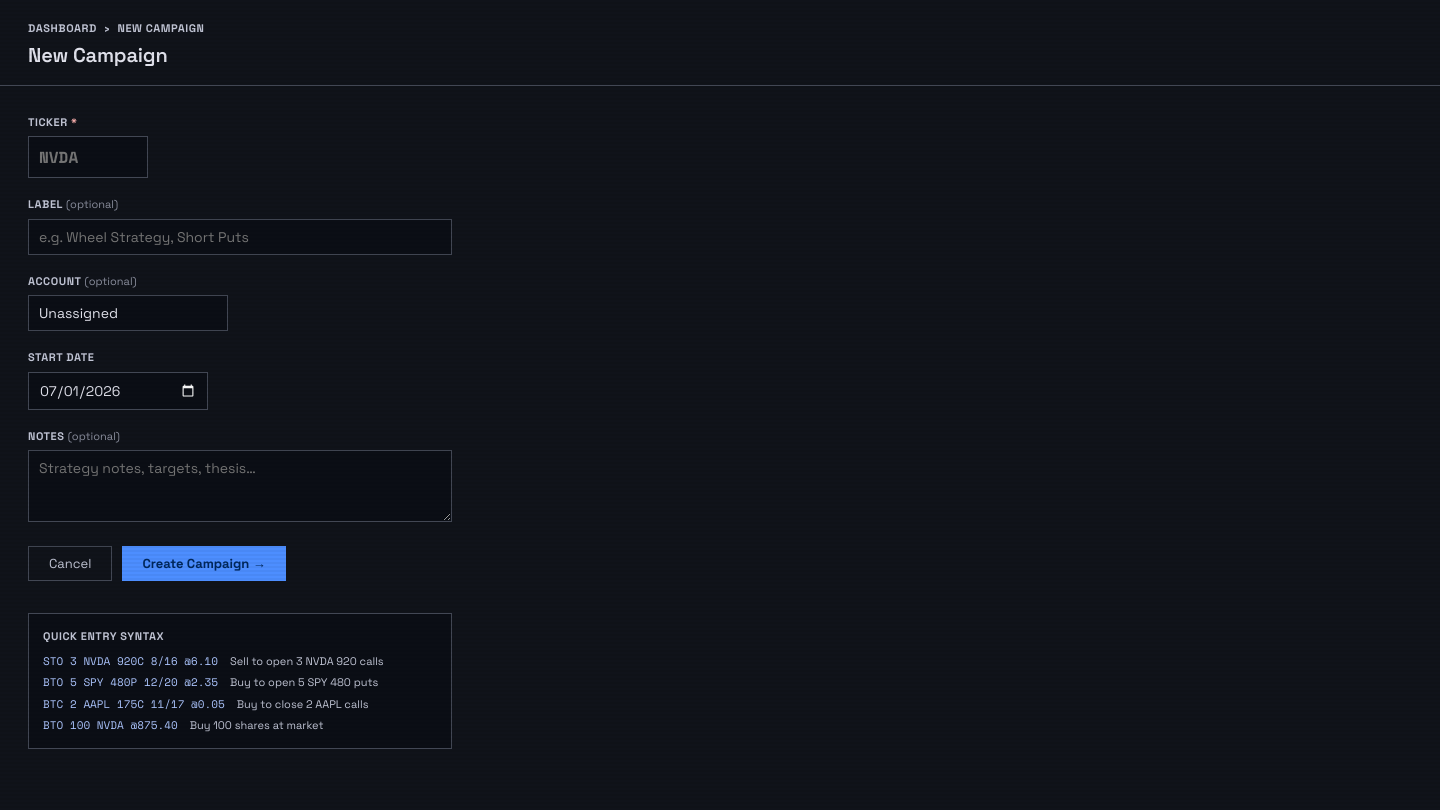
Test: ticker field › strips non-letter characters from input
This screenshot has width=1440, height=810.
Step 1. Type "SP1Y" into the field with class "ticker-input" → (88, 157), box [28, 136, 148, 178]
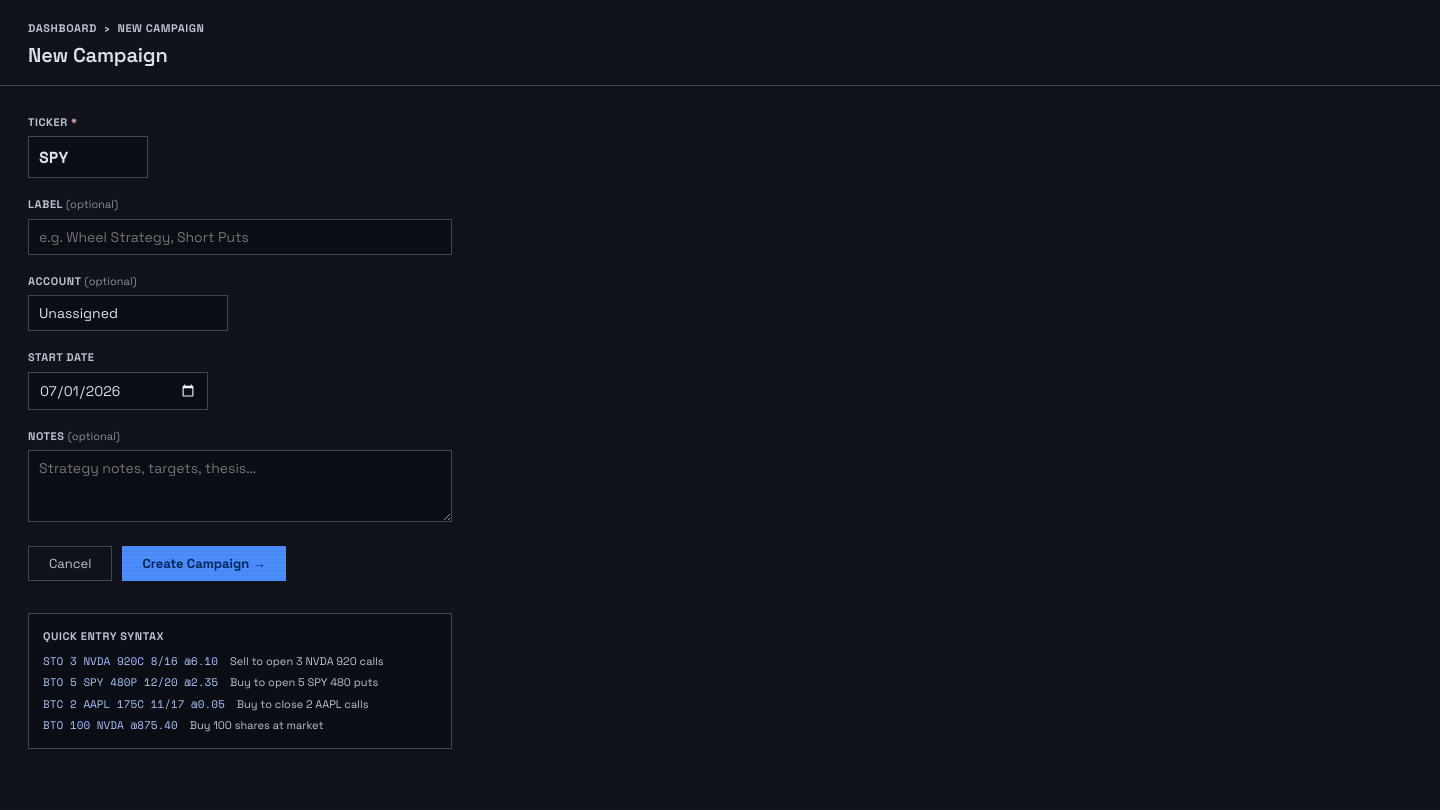
Check: the field with class "ticker-input" holds "SPY", box [28, 136, 148, 178]
